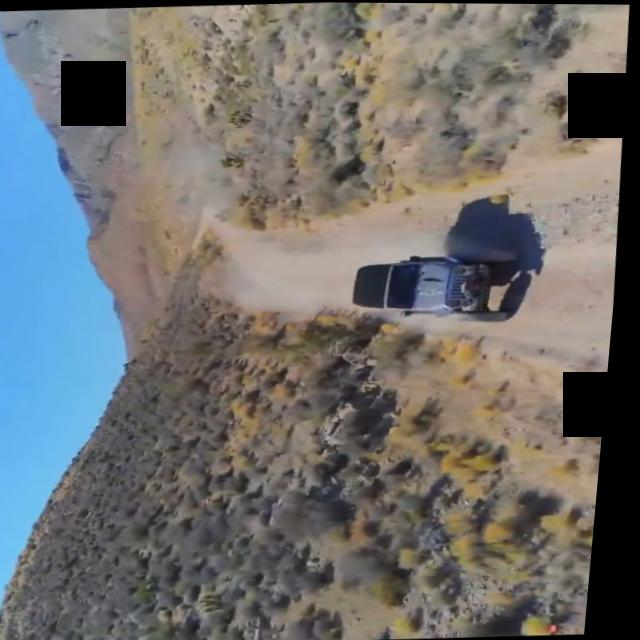Vehicle: (349, 244, 526, 329)
